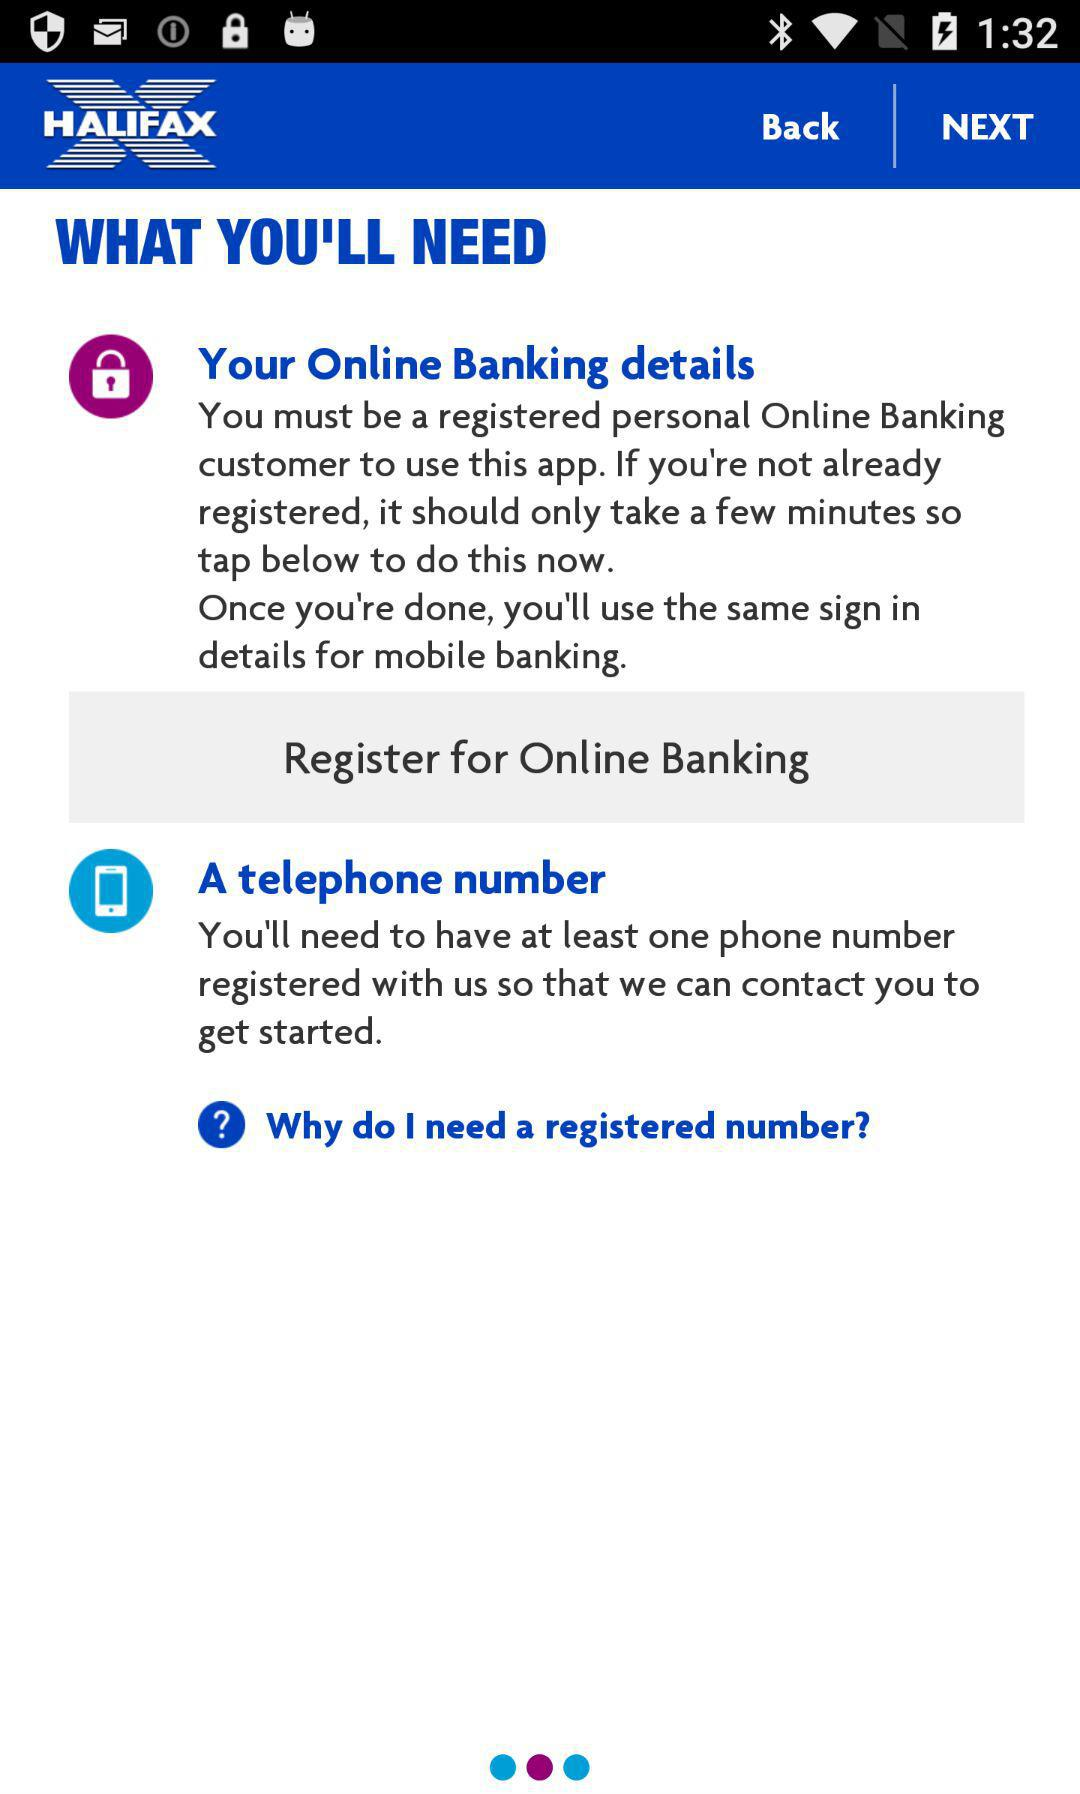Icon: (68, 334, 155, 420), (199, 1101, 247, 1149)
Image: (38, 74, 222, 170), (69, 850, 154, 934)
PageIndicator: (489, 1752, 592, 1782)
Text: (199, 399, 1004, 678), (199, 920, 980, 1055), (199, 343, 757, 391), (56, 218, 548, 268), (266, 1110, 870, 1149), (199, 859, 606, 905), (942, 113, 1035, 144), (762, 111, 840, 142)
TextButton: (70, 691, 1025, 824)
Toolbar: (1, 64, 1080, 190)
UpperTaskBar: (1, 1, 1080, 64)
